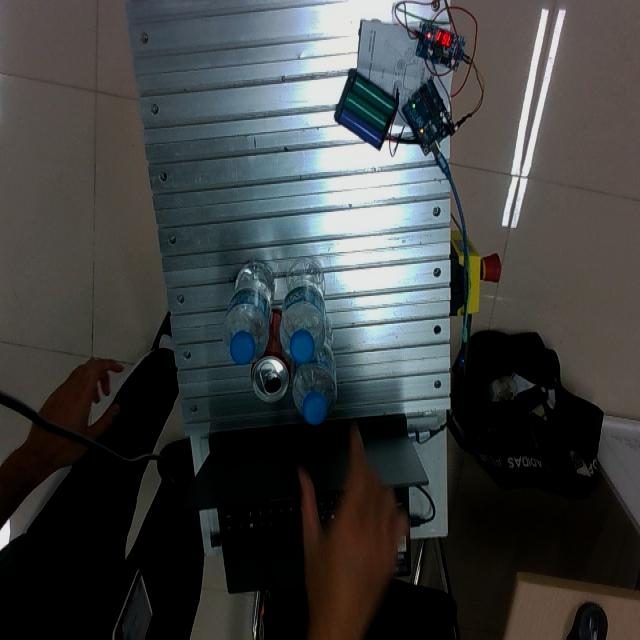coca: (251, 308, 291, 404)
lavie: (281, 260, 329, 365), (225, 261, 274, 363), (292, 318, 338, 426)
